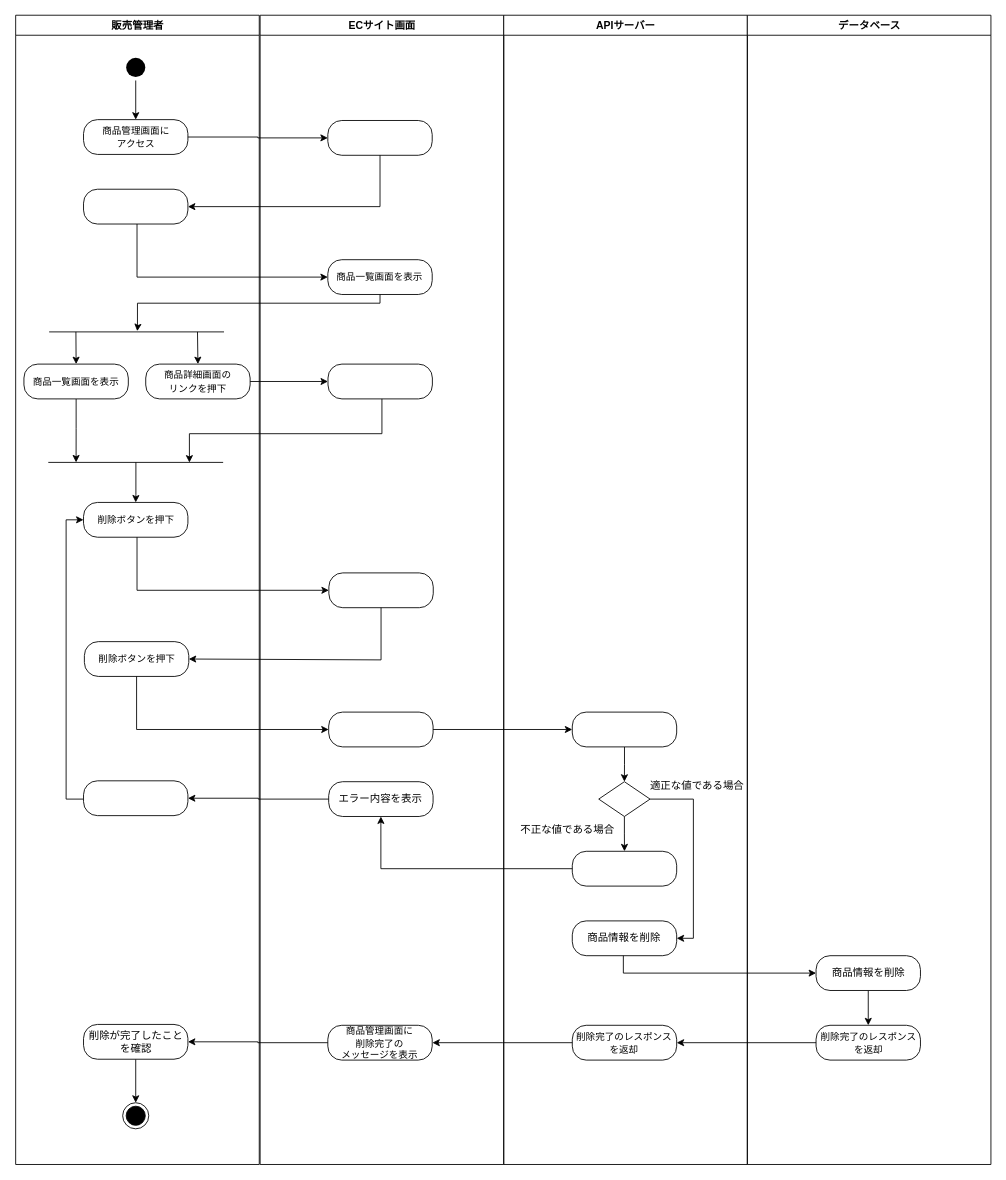
This 1006x1180 diagram has some shape labels left out. The centre of each missing label's shape, as x and y in pixels:
"エラーを返却" belongs at (x=624, y=868).
"エラー内容を確認" belongs at (x=135, y=798).
"入力値の バリデーション" belongs at (x=624, y=729).
"削除ダイアログを表示" belongs at (x=380, y=590).
"商品一覧画面の リンクを押下" belongs at (x=135, y=206).
"商品情報削除 APIリクエストを送信" belongs at (x=380, y=729).
"商品管理画面を表示" belongs at (x=379, y=137).
"商品詳細画面を表示" belongs at (x=379, y=381).
